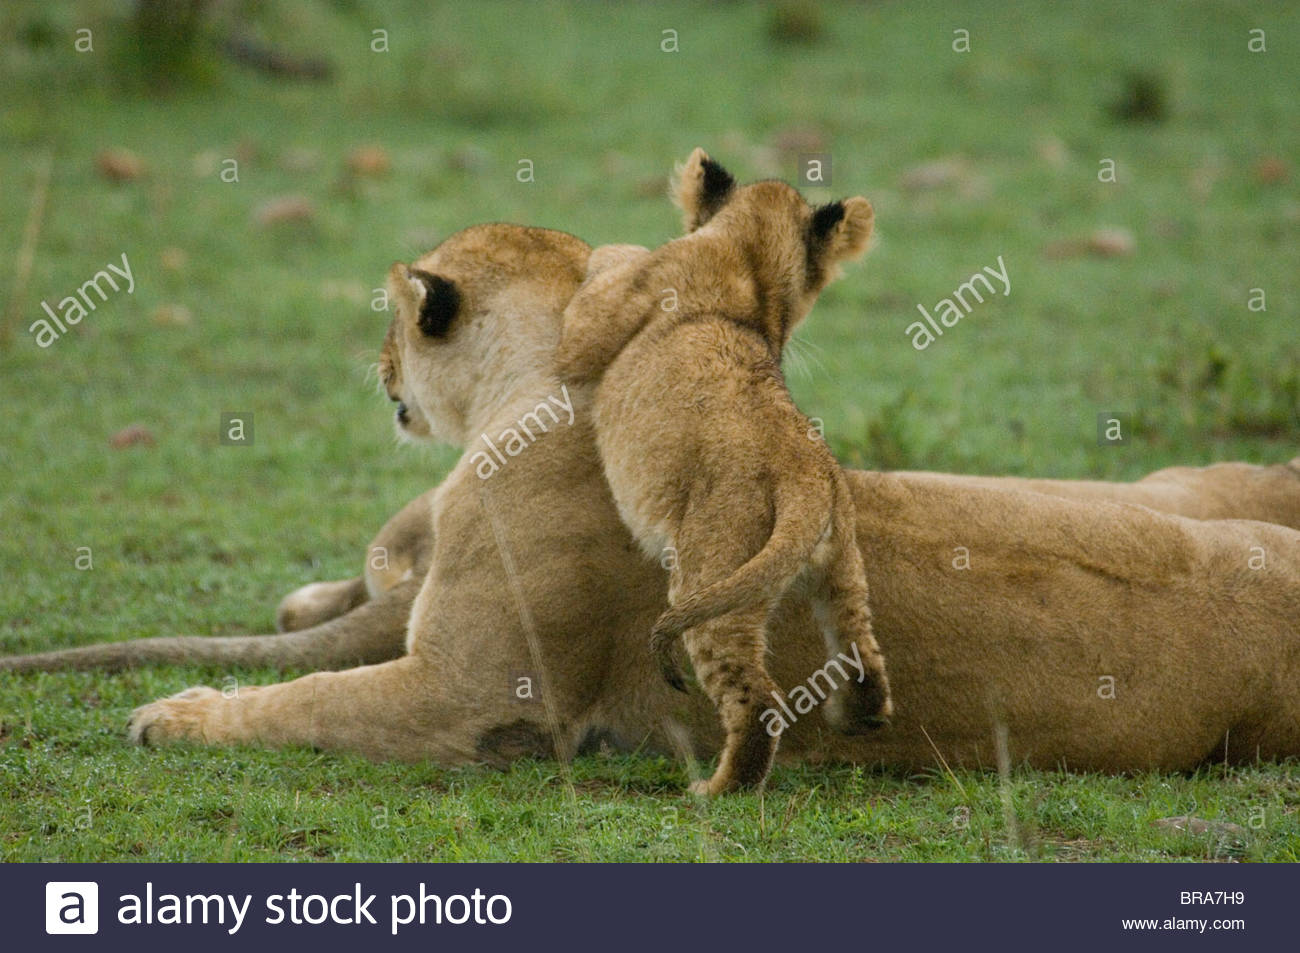lion: (129, 221, 1299, 803), (569, 158, 894, 797)
